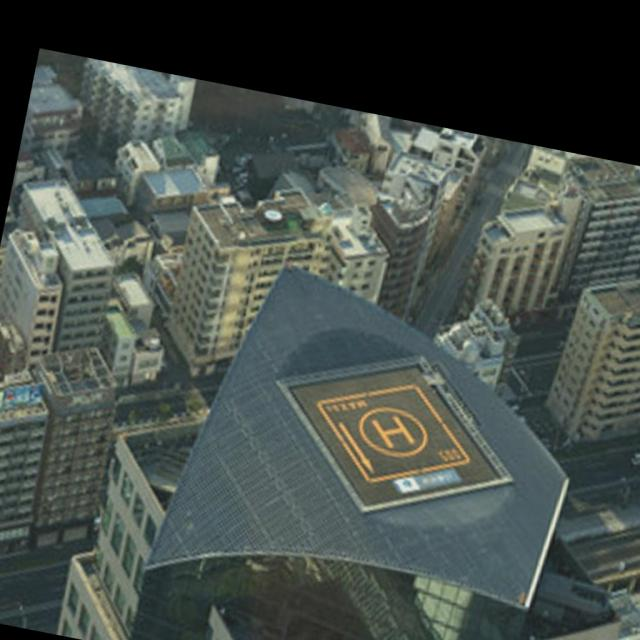helipad: (356, 402, 430, 460)
